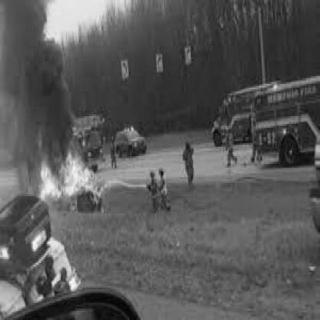Smoke: (2, 1, 76, 141)
